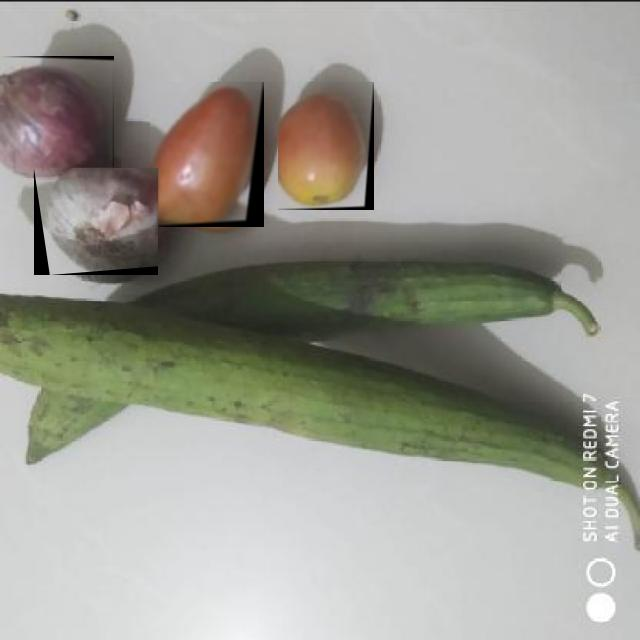onion: (0, 56, 114, 178), (34, 168, 158, 275)
tomato: (150, 82, 264, 227), (278, 82, 374, 210)
